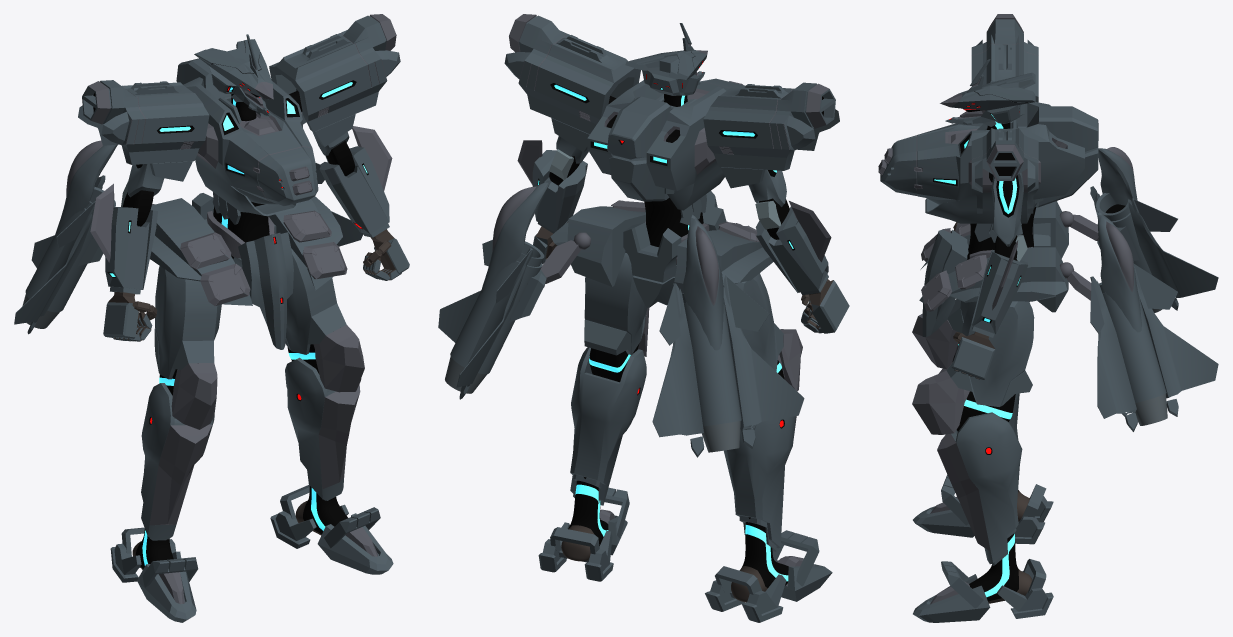
Rendered from mecha.glb.
3 renders of one model, left to right at view 1: azimuth 30°, elevation 25°; view 2: azimuth 150°, elevation 25°; view 3: azimuth 270°, elevation 25°, orthographic. The views are drawn at different scales.
Parts seen in each view (by area): view 1: Cube.008, object 15, Cube.011, Cube.009, object 11, object 18, object 46, object 16, object 73, object 42, object 44, object 9 (+22 smaller); view 2: object 11, Cube.008, object 10, Cube.011, Cube.009, object 15, object 46, object 18, object 44, object 42, object 73, object 9 (+17 smaller); view 3: object 10, Cube.008, object 46, object 11, object 15, object 44, Cube.011, Cube.009, object 9, object 45, object 73, object 48 (+16 smaller).
Part boxes in pixels (x1,y1,x2,y2): Cube.008: [176, 58, 318, 216]; object 15: [150, 193, 342, 349]; Cube.011: [269, 14, 400, 146]; Cube.009: [78, 80, 209, 181]; object 11: [14, 140, 117, 334]; object 18: [141, 383, 214, 540]; object 46: [285, 357, 360, 500]; object 16: [154, 266, 221, 379]; object 73: [319, 126, 392, 237]; object 42: [90, 183, 157, 294]; object 44: [285, 248, 346, 354]; object 9: [194, 34, 273, 115]; object 11: [652, 215, 804, 457]; Cube.008: [587, 78, 744, 210]; object 10: [438, 180, 550, 399]; Cube.011: [504, 14, 640, 152]; Cube.009: [703, 82, 839, 188]; object 15: [551, 191, 773, 307]; object 46: [570, 347, 646, 505]; object 18: [724, 416, 796, 551]; object 44: [584, 253, 647, 355]; object 42: [755, 201, 831, 295]; object 73: [517, 140, 587, 233]; object 9: [625, 23, 707, 95]; object 10: [1090, 212, 1218, 431]; Cube.008: [880, 102, 1098, 223]; object 46: [937, 412, 1022, 565]; object 11: [1090, 147, 1218, 312]; object 15: [919, 201, 1055, 336]; object 44: [946, 301, 1034, 406]; Cube.011: [971, 128, 1038, 213]; Cube.009: [971, 14, 1038, 102]; object 9: [940, 59, 1035, 126]; object 45: [912, 370, 1015, 434]; object 73: [971, 240, 1027, 337]; object 48: [913, 574, 990, 622].
Size of the model in its own units: 11.55 by 16.97 by 10.16.
